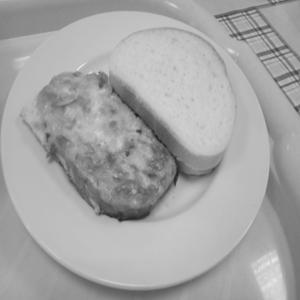bread: (98, 22, 245, 180)
cheese_sandwich: (23, 65, 186, 223)
